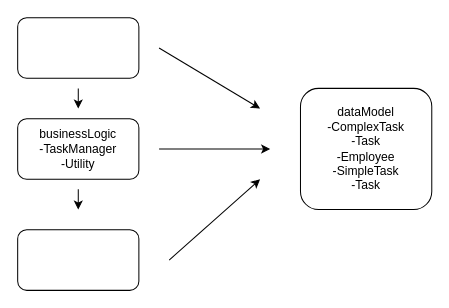
The diagram is 449 pixels wide and 308 high, and some of its shapes have lost their labels. Here are the shapes that lost their labels. From the top down, the box of each, then its label:
(17, 17, 139, 78): userInterface -MainApp
(17, 229, 139, 290): dataAcess -SerializationUtility
